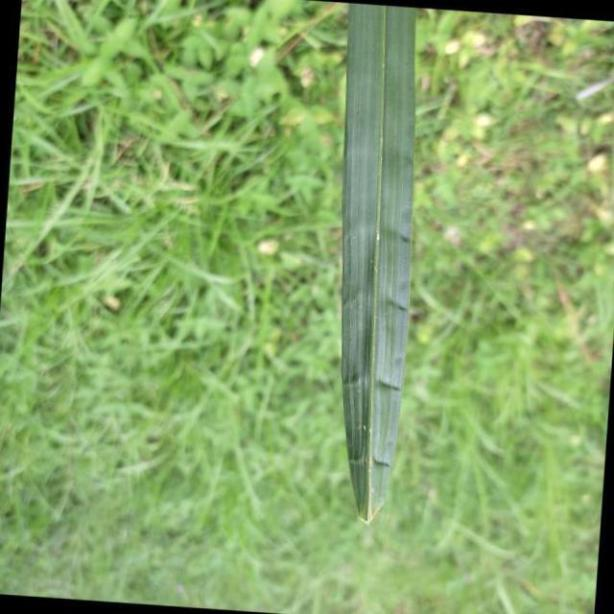Boron: (342, 0, 416, 529)
